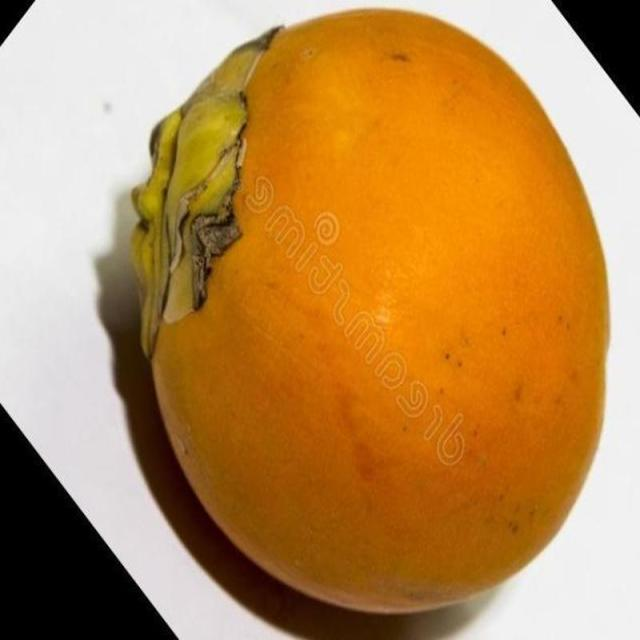good: (126, 8, 613, 621)
